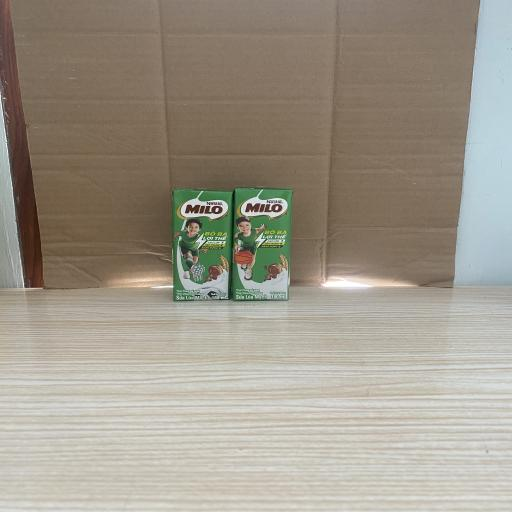milo: (172, 189, 234, 301), (234, 187, 292, 299)
